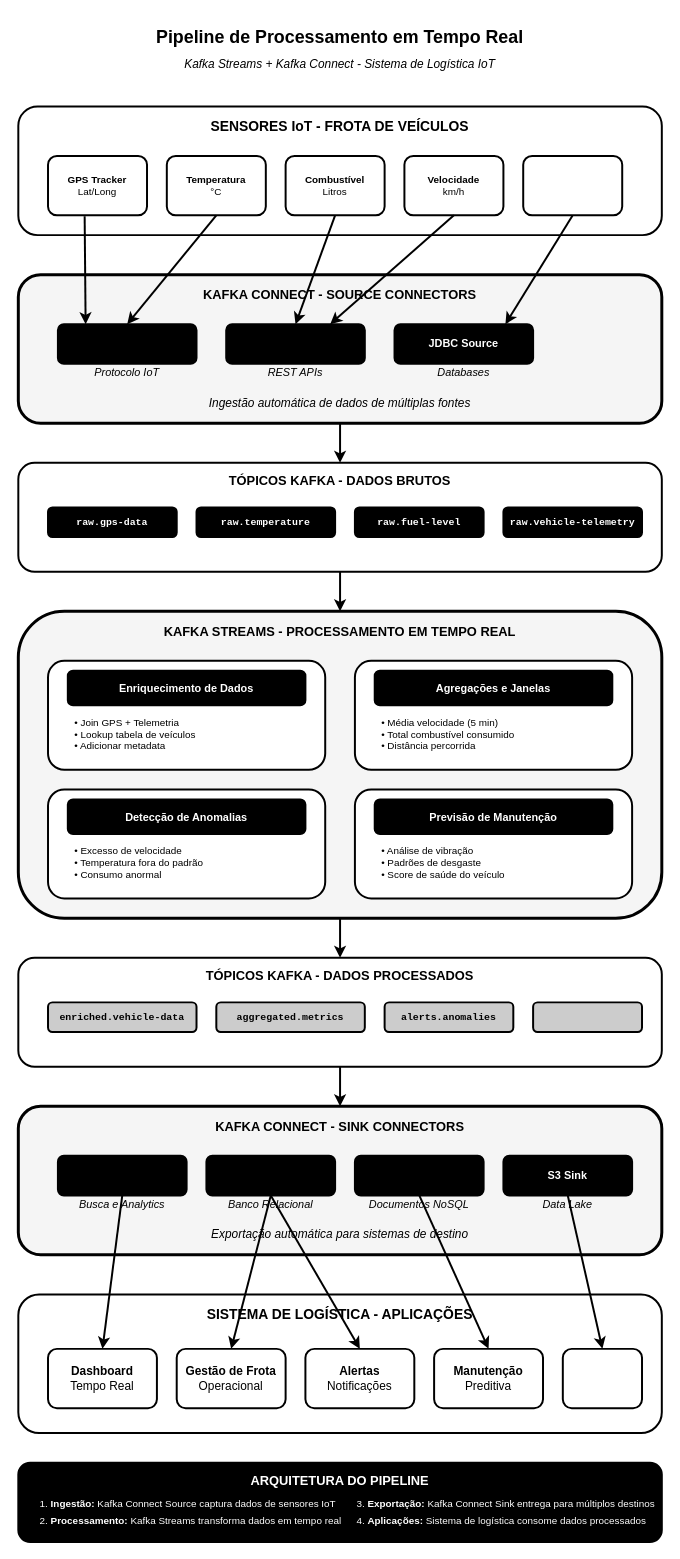
Some shapes in this 680 by 1559 pixel diagram are drawn without their labels. The shapes that lost their labels are listed below. From the top down, each one's centre as x and y in pixels, then its label:
(x=572, y=185): Vibração Hz
(x=126, y=343): MQTT Connector
(x=295, y=343): HTTP Source
(x=587, y=1017): maintenance. predictions
(x=121, y=1175): Elasticsearch Sink
(x=270, y=1175): PostgreSQL Sink
(x=418, y=1175): MongoDB Sink
(x=602, y=1378): Analytics BI
